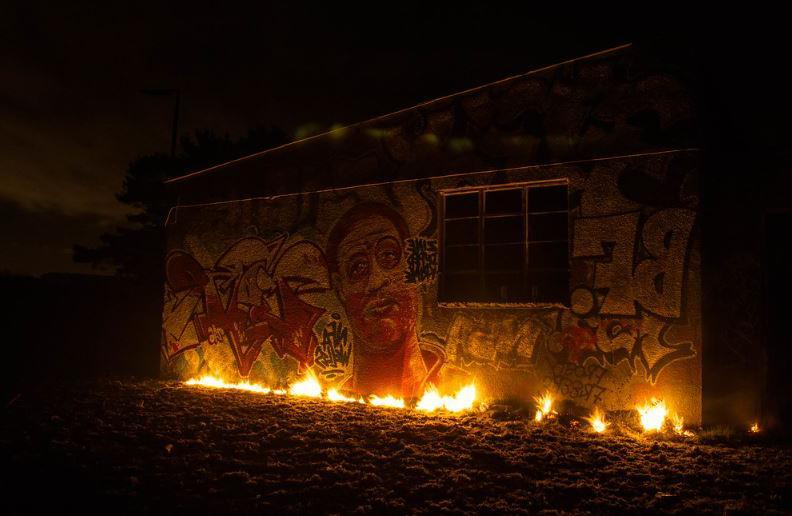Fire: (175, 355, 488, 411), (633, 390, 695, 437), (530, 383, 563, 424), (584, 403, 615, 435)
